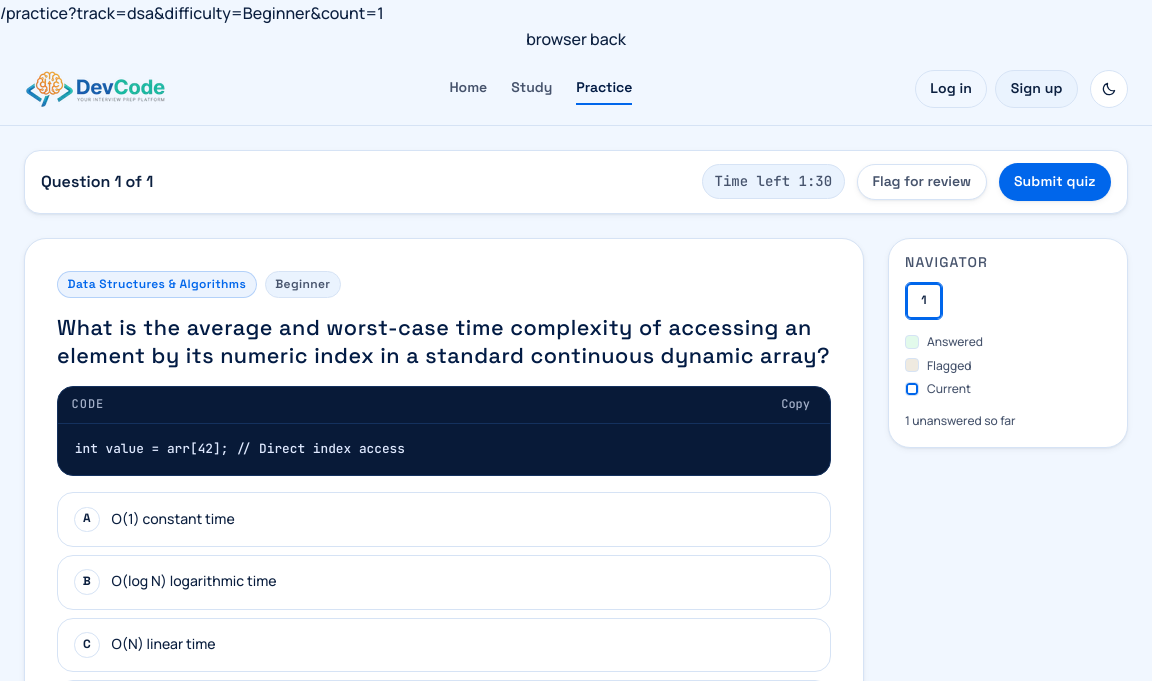
Test: AI coach → Study hub → back to Results › does not submit the attempt twice
Expected: the text "Question 1 of 1" is shown, [41,168,153,195]
Click the button "B O(log N) logarithmic time": (194, 581) [57,555,831,610]
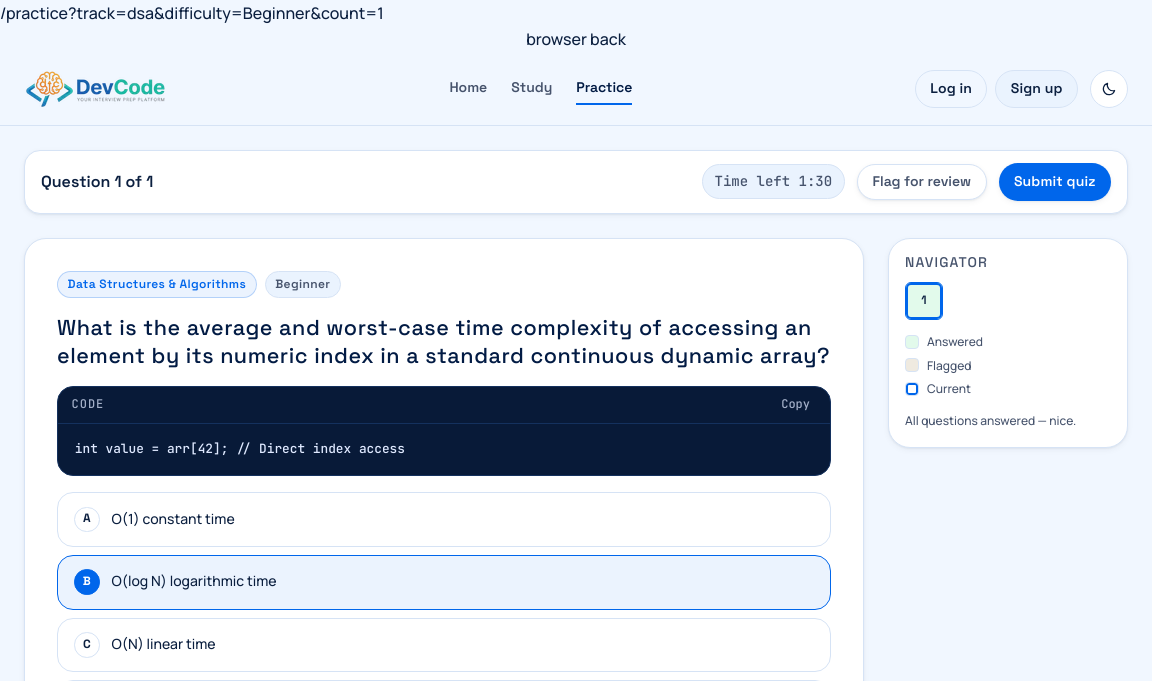
Click the button "Submit quiz": (1055, 182) [998,163,1111,201]
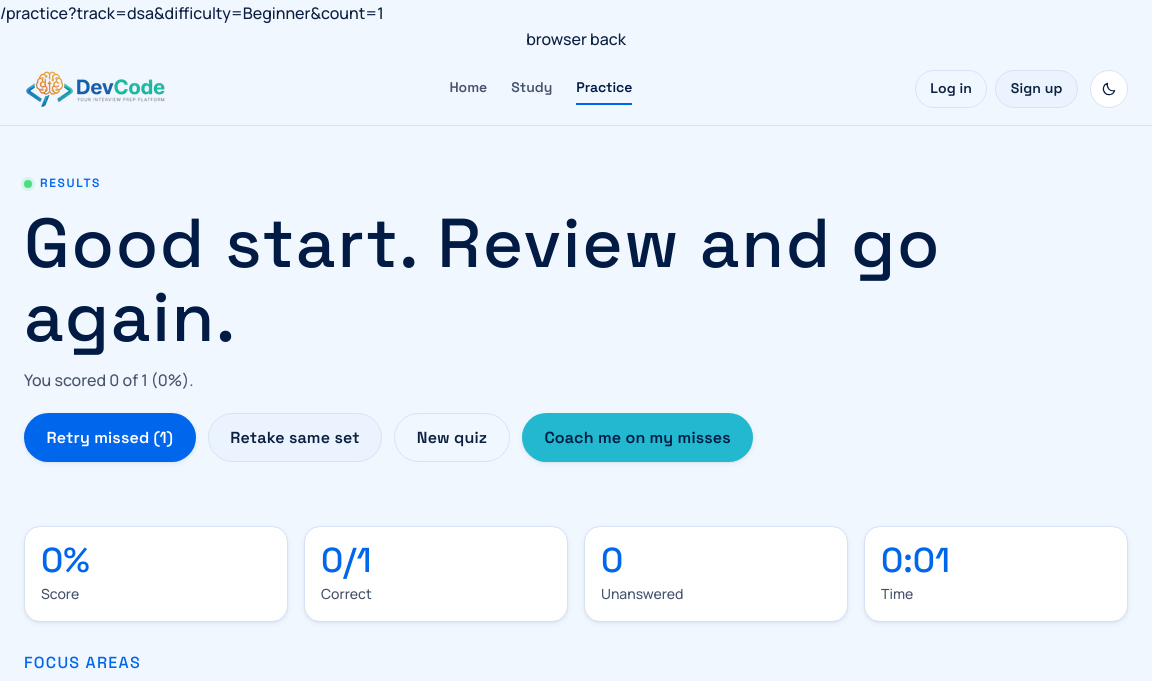
Now the button "Coach me on my misses" is shown
Click the button "Coach me on my misses": (638, 438) [522,413,754,462]
(page scrolled)
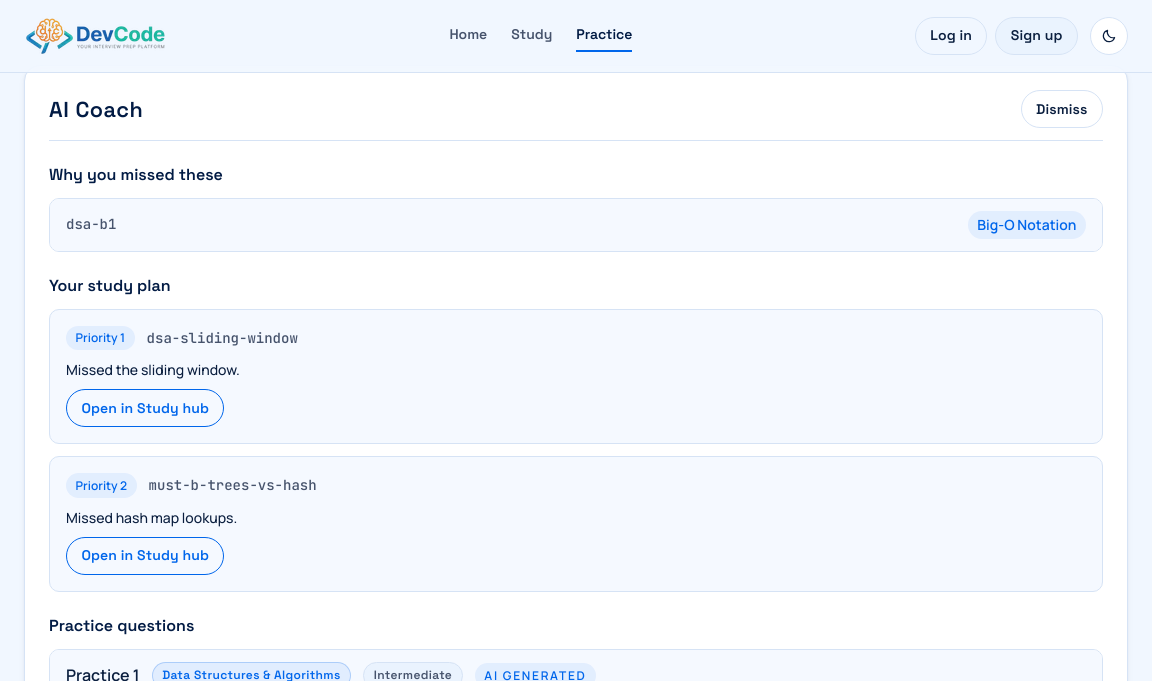
Now the heading "Why you missed these" is shown, box [49,164,223,185]
Click the link "Open in Study hub" below "dsa-sliding-window": (145, 408) [66,389,224,427]
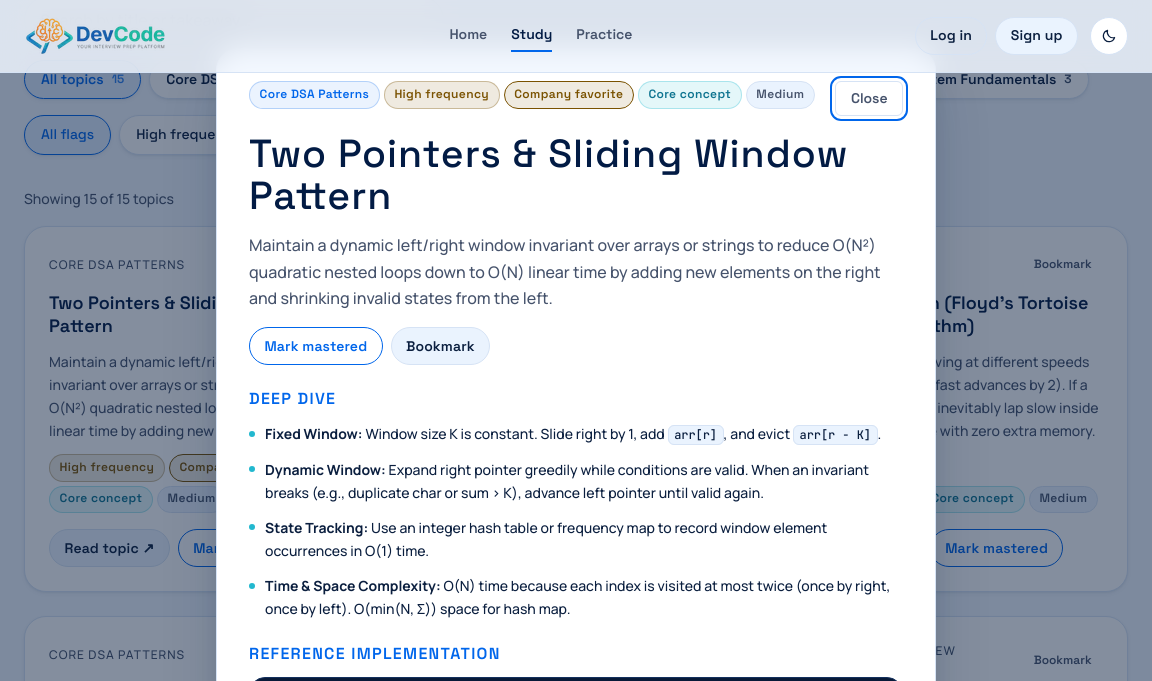
Click the button with aria-label "Close topic": (869, 98) [836,81,903,116]
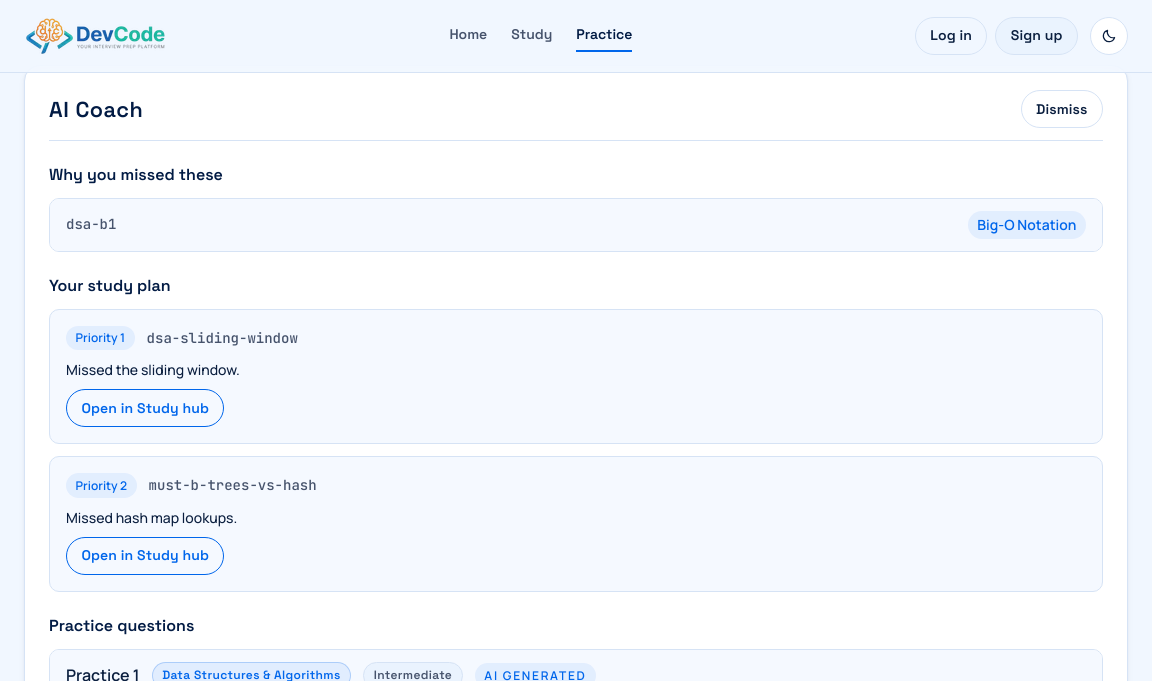
Now the heading "Why you missed these" is shown, box [49,164,223,185]
